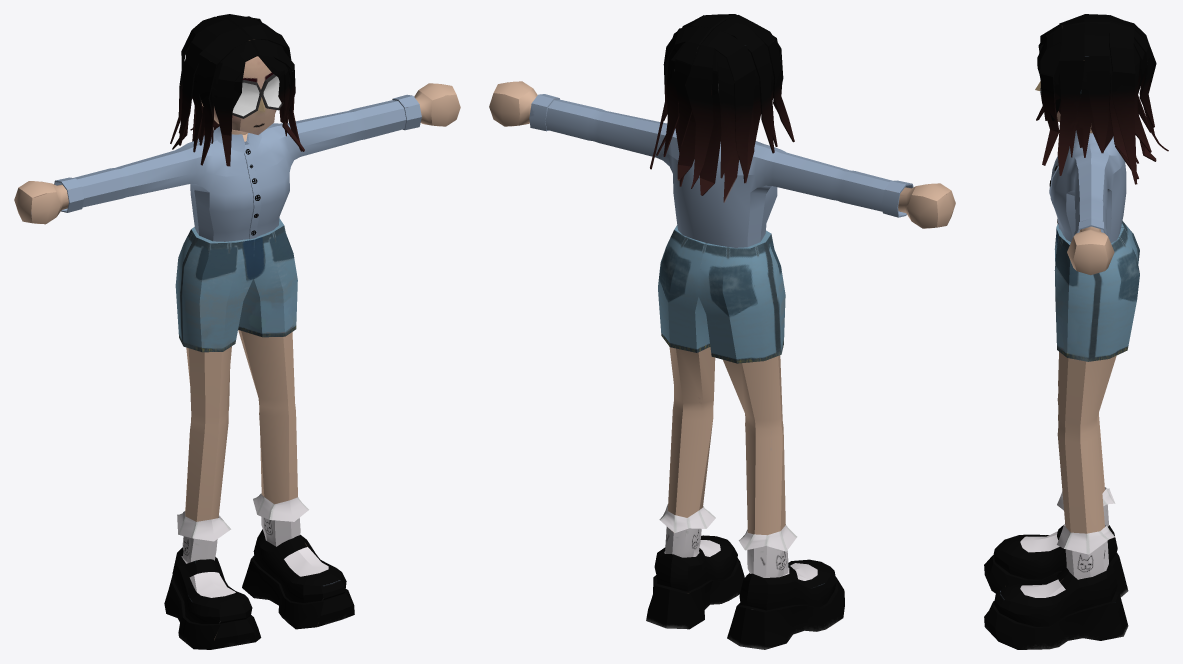
The model's file is resetVectors.glb.
3 views of the same model, side by side, from view 1: azimuth 30°, elevation 25°; view 2: azimuth 150°, elevation 25°; view 3: azimuth 270°, elevation 25° (orthographic). The views are drawn at different scales.
Visible parts, largest first — view 1: bake; view 2: bake; view 3: bake.
Part boxes in pixels (x1=…): bake: x1=14, y1=14, x2=460, y2=649; bake: x1=489, y1=14, x2=955, y2=649; bake: x1=984, y1=14, x2=1168, y2=649.
Bounding box in the file's own units: 1.17 × 1.47 × 0.4177.
Materials: 1 (1 with a texture image).
